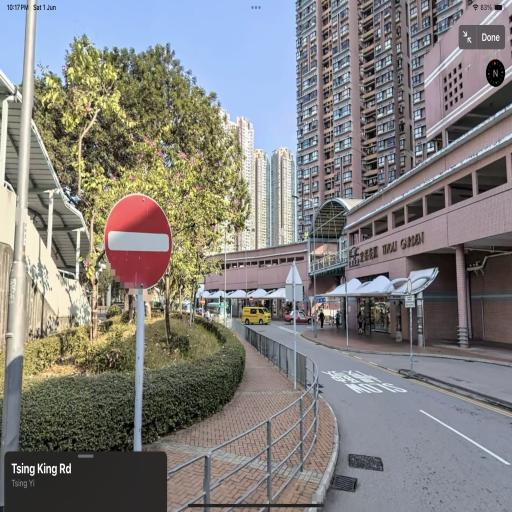Roads: (234, 323, 510, 508)
Trees: (35, 42, 237, 433)
